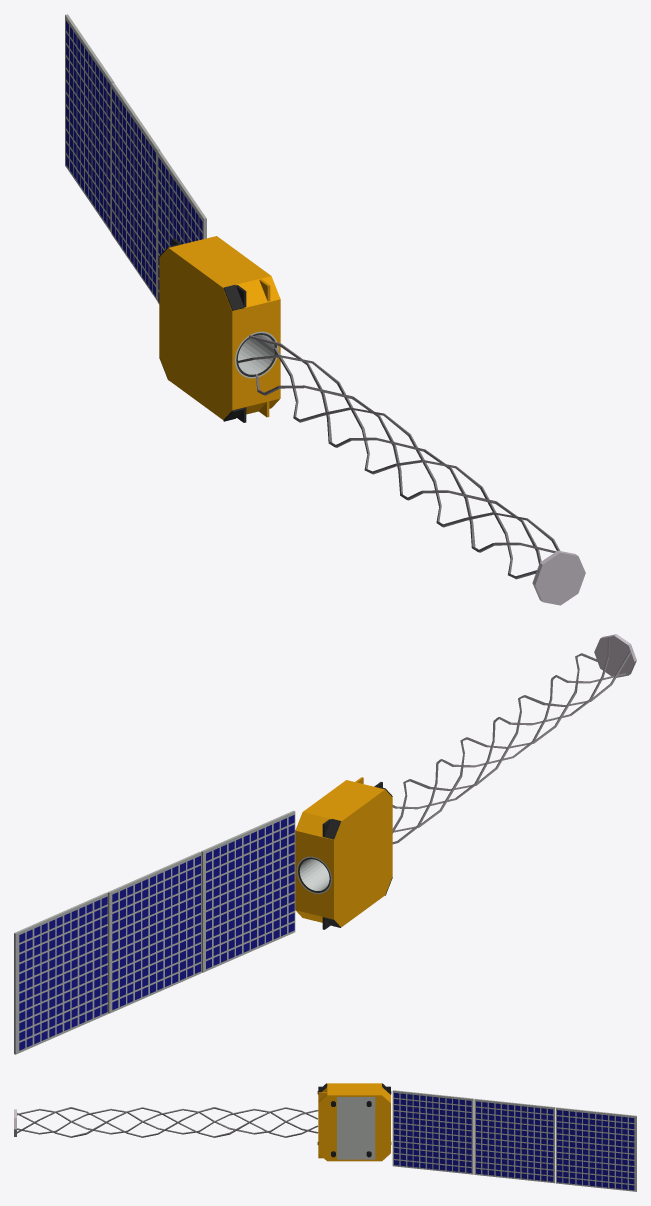
Rendered from orbcomm2_high.gltf.
The picture shows the model from 3 angles, top to bottom: view 1: azimuth 30°, elevation 25°; view 2: azimuth 150°, elevation 25°; view 3: azimuth 270°, elevation 25°; orthographic projection. The views are drawn at different scales.
Parts seen in each view (by area): view 1: Cube, Cube.028, Plane.005, Plane.003, Cube.017, Cube.016, Plane.001, Cylinder.004, Cube.002, Cube.014; view 2: Cube, Plane.005, Plane.001, Plane.003, Cube.017, Cube.002, Cube.016, Cube.028, Cylinder.004, Cube.014; view 3: Plane.004, Plane.000, Plane.002, Cube.016, Cube.002, Cube.017, Cube, Cube.028, Cube.011.
Part boxes in pixels (bbox=[...]): Cube: bbox=[159, 236, 280, 419]; Cube.028: bbox=[236, 335, 560, 579]; Plane.005: bbox=[66, 21, 110, 228]; Plane.003: bbox=[112, 89, 155, 296]; Cube.017: bbox=[65, 14, 114, 232]; Cube.016: bbox=[111, 82, 160, 300]; Plane.001: bbox=[158, 157, 202, 302]; Cylinder.004: bbox=[532, 550, 585, 605]; Cube.002: bbox=[157, 151, 206, 304]; Cube.014: bbox=[237, 334, 274, 374]; Cube: bbox=[295, 780, 392, 927]; Plane.005: bbox=[19, 896, 107, 1050]; Plane.001: bbox=[206, 815, 294, 968]; Plane.003: bbox=[112, 856, 200, 1009]; Cube.017: bbox=[14, 892, 107, 1054]; Cube.002: bbox=[201, 810, 295, 972]; Cube.016: bbox=[107, 851, 201, 1013]; Cube.028: bbox=[392, 638, 632, 844]; Cylinder.004: bbox=[594, 634, 636, 677]; Cube.014: bbox=[299, 859, 329, 890]; Plane.004: bbox=[557, 1110, 634, 1190]; Plane.000: bbox=[394, 1093, 471, 1172]; Plane.002: bbox=[476, 1101, 553, 1181]; Cube.016: bbox=[474, 1098, 555, 1183]; Cube.002: bbox=[392, 1090, 473, 1174]; Cube.017: bbox=[556, 1107, 636, 1191]; Cube: bbox=[318, 1083, 390, 1161]; Cube.028: bbox=[17, 1107, 318, 1137]; Cube.011: bbox=[337, 1097, 375, 1159].
Size of the model in its own units: 2.47 by 2.28 by 17.07.
